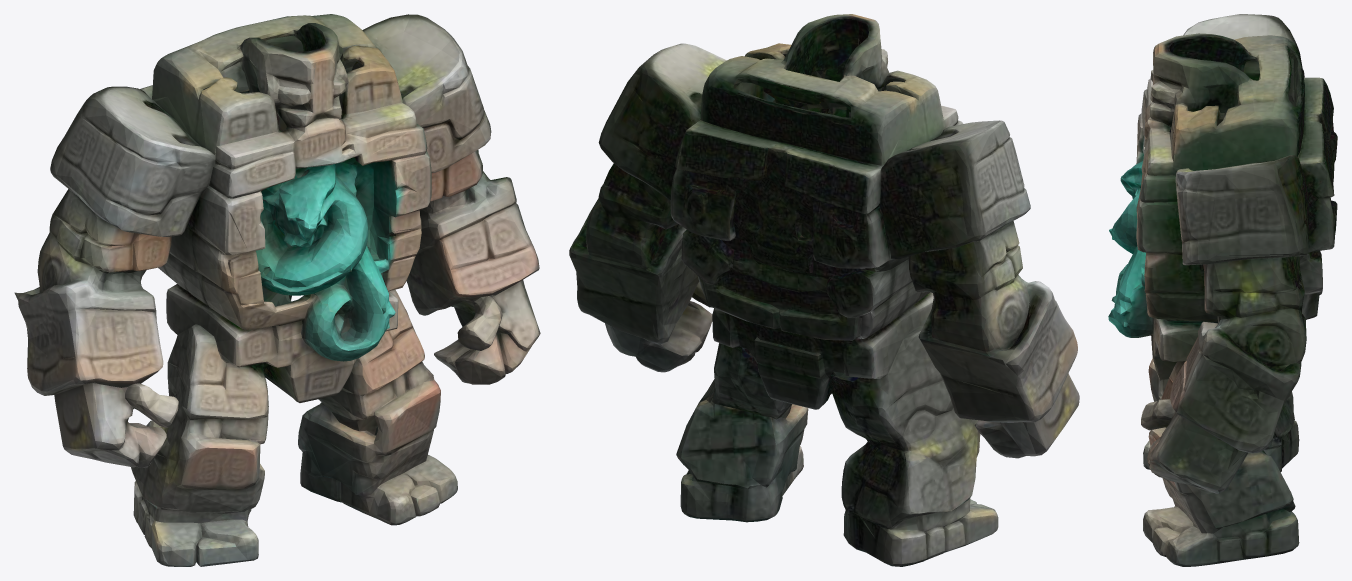
The model's file is bulwyrm.glb.
3 renders of one model, left to right at view 1: azimuth 30°, elevation 25°; view 2: azimuth 150°, elevation 25°; view 3: azimuth 270°, elevation 25°, orthographic. The views are drawn at different scales.
Parts seen in each view (by area): view 1: world; view 2: world; view 3: world.
Boxes of the visible parts, x1=… form: world: x1=14, y1=14, x2=540, y2=566; world: x1=569, y1=14, x2=1079, y2=566; world: x1=1108, y1=14, x2=1337, y2=566.
Size of the model in its own units: 0.9989 by 0.9862 by 0.4494.
Materials: 1 (1 with a texture image).
